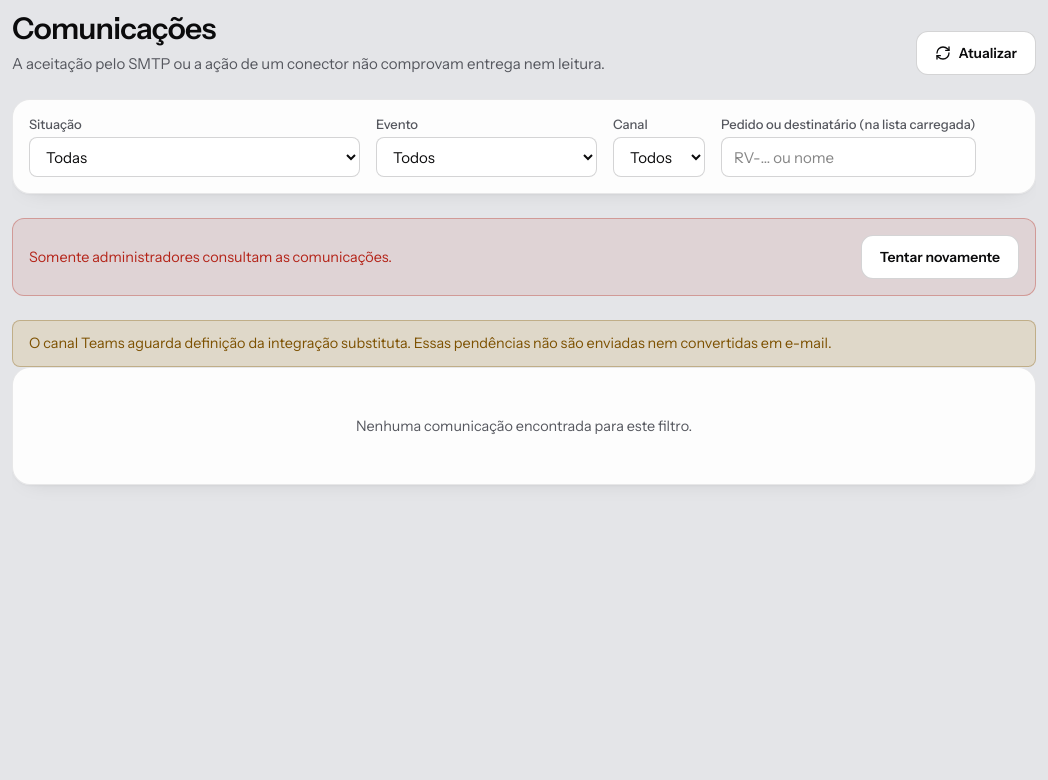
it: ComunicacoesPage › informa falha de carregamento (inclusive recusa por falta de permissão) com nova tentativa
The image size is (1048, 780).
Check: the message shows "Somente administradores consultam as comunicações.", box [29, 248, 392, 266]
Click the button "Tentar novamente" at (940, 257), box [861, 235, 1019, 279]
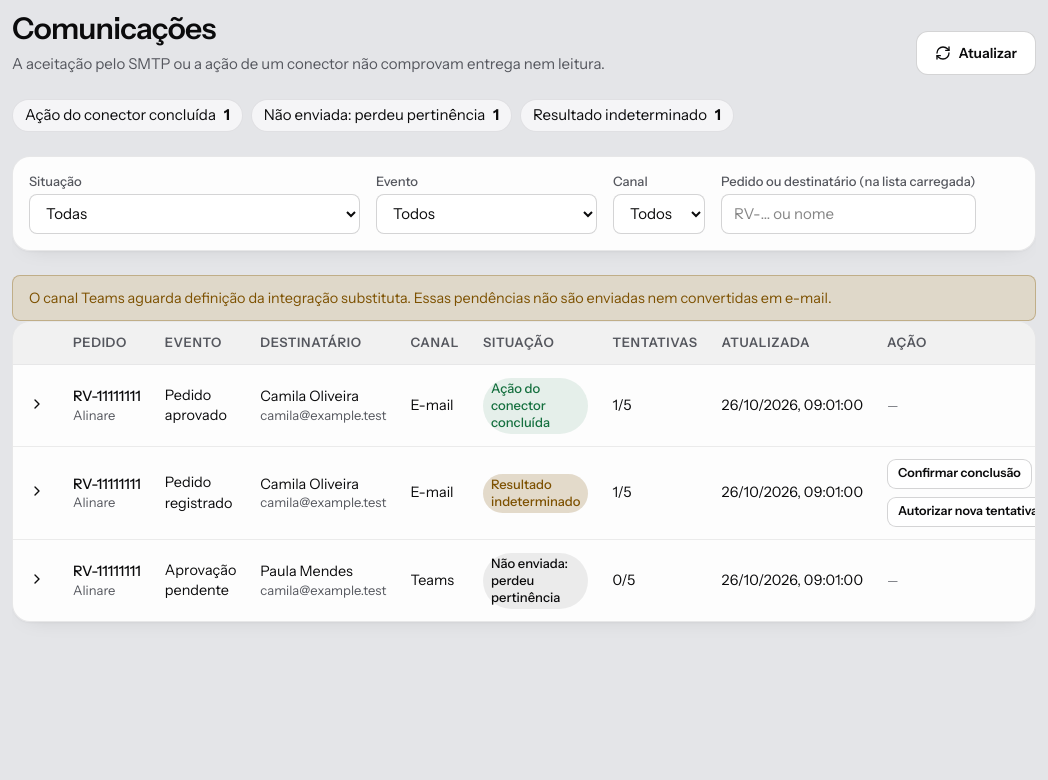
Check: the text "Pedido registrado" is shown, box [165, 473, 232, 512]
